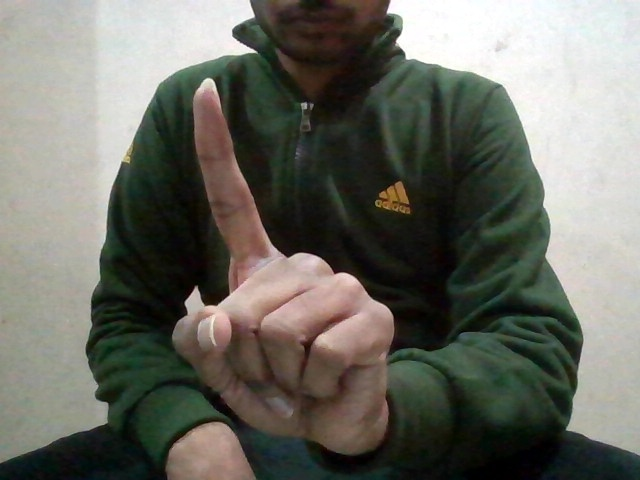D: (166, 75, 396, 431)
